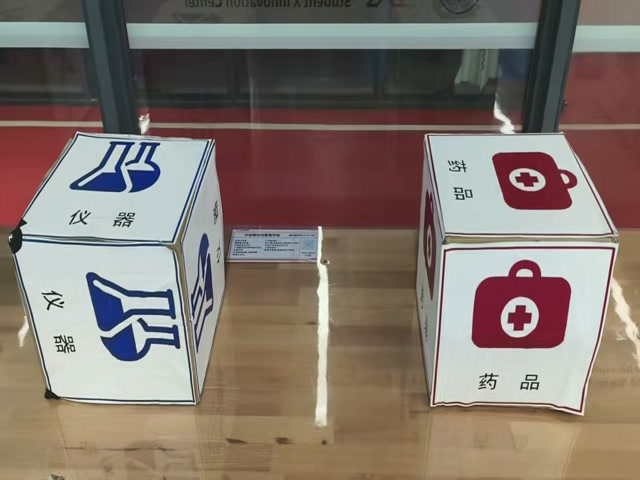Cube_ins: (13, 134, 223, 248)
Cube_medicine: (421, 135, 628, 250)
